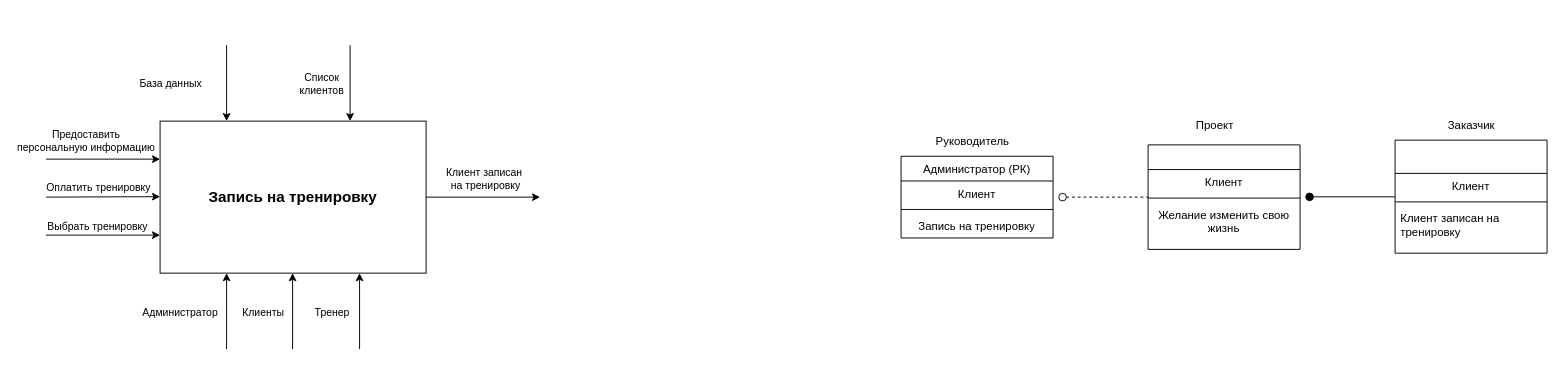
Some shapes in this 1564 by 373 pixel diagram are drawn without their labels. Each missing label, with the box of its shape:
Желание изменить свою жизнь (РК): (1394, 139, 1547, 253)
Запись на тренировку (РК): (1147, 144, 1300, 249)
